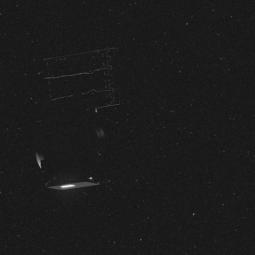proba_3_csc: (25, 32, 127, 194)
